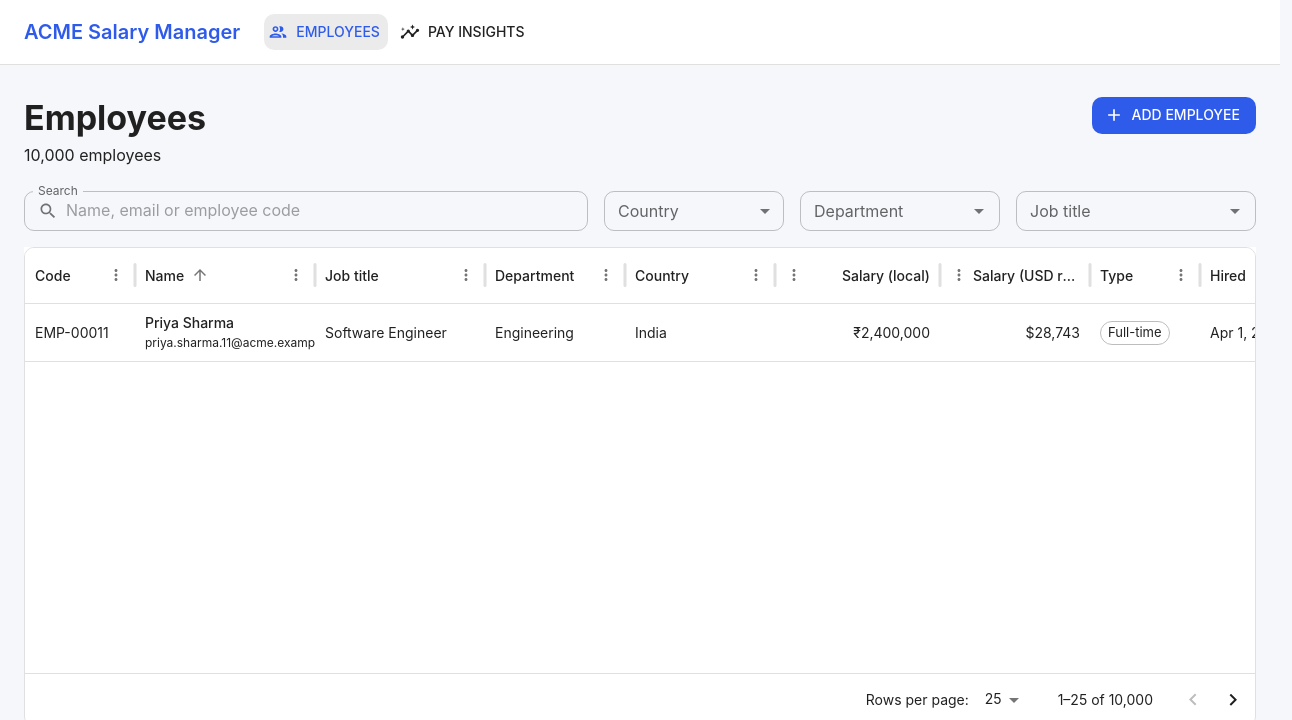
Test: EmployeesPage › never labels the previous total as the count for new filters
The image size is (1292, 720).
Expected: the text "10,000 employees" is shown, [24,145,161,165]
Click the dropdown named "Country". click: click(694, 211)
box: [604,191,784,231]
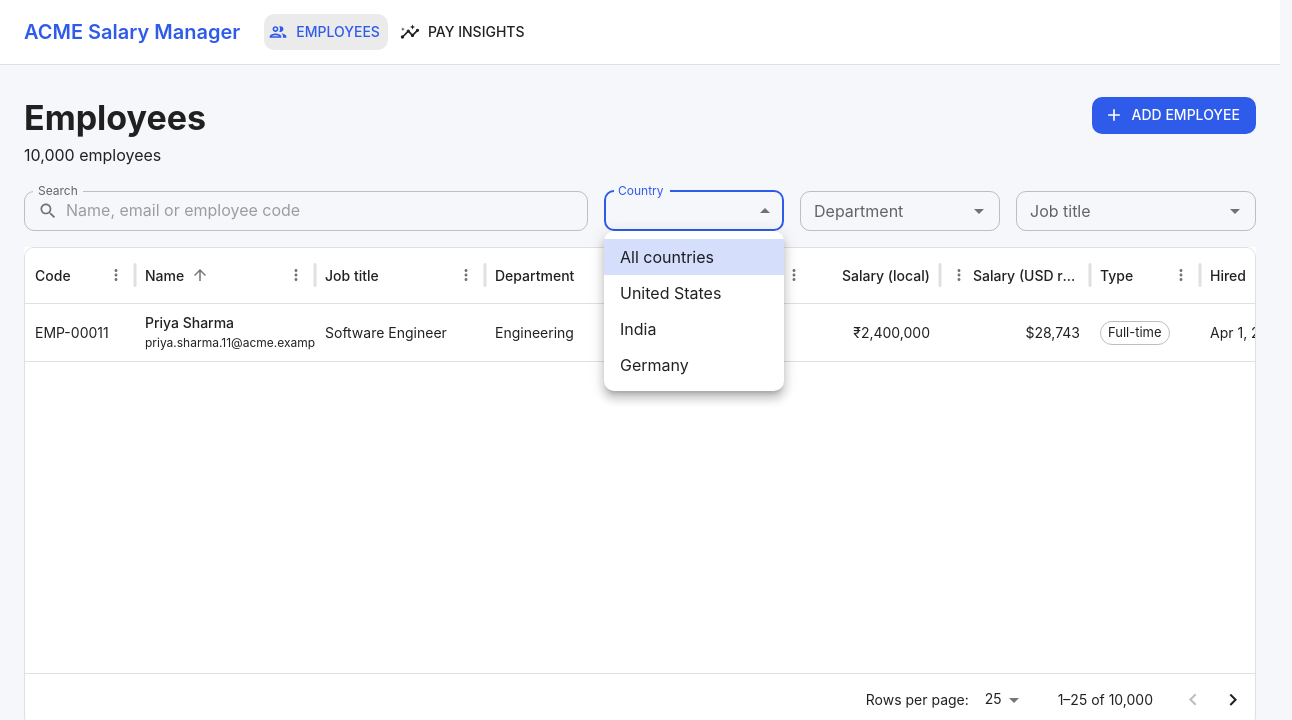
Click the option "India". click: click(638, 329)
box: [620,319,656,339]
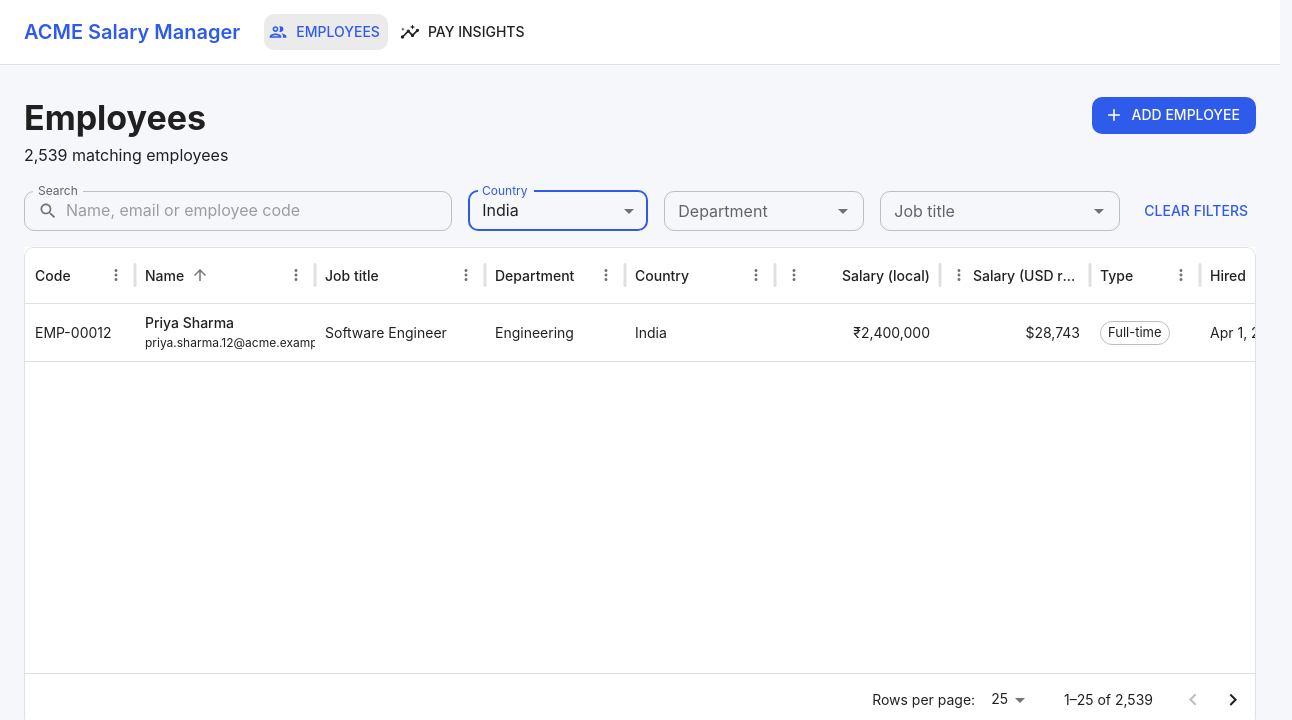
Result: the text "2,539 matching employees" is shown at [24,143,228,167]
